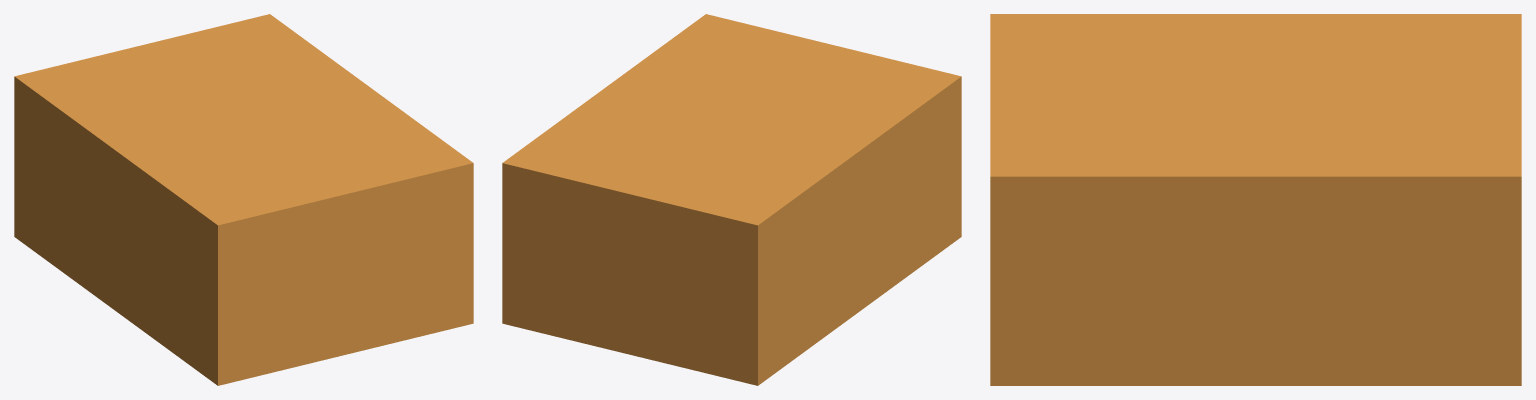
File: para__edge.glb
The picture shows the model from 3 angles, left to right: view 1: azimuth 30°, elevation 25°; view 2: azimuth 150°, elevation 25°; view 3: azimuth 270°, elevation 25°; orthographic projection. The views are drawn at different scales.
Visible parts, largest first — view 1: Cube; view 2: Cube; view 3: Cube.
Boxes of the visible parts, <box> form: Cube: <box>14,14,473,385</box>; Cube: <box>502,14,961,385</box>; Cube: <box>990,14,1521,385</box>.
Bounding box in the file's own units: 0.7721 × 0.4632 × 1.07.
